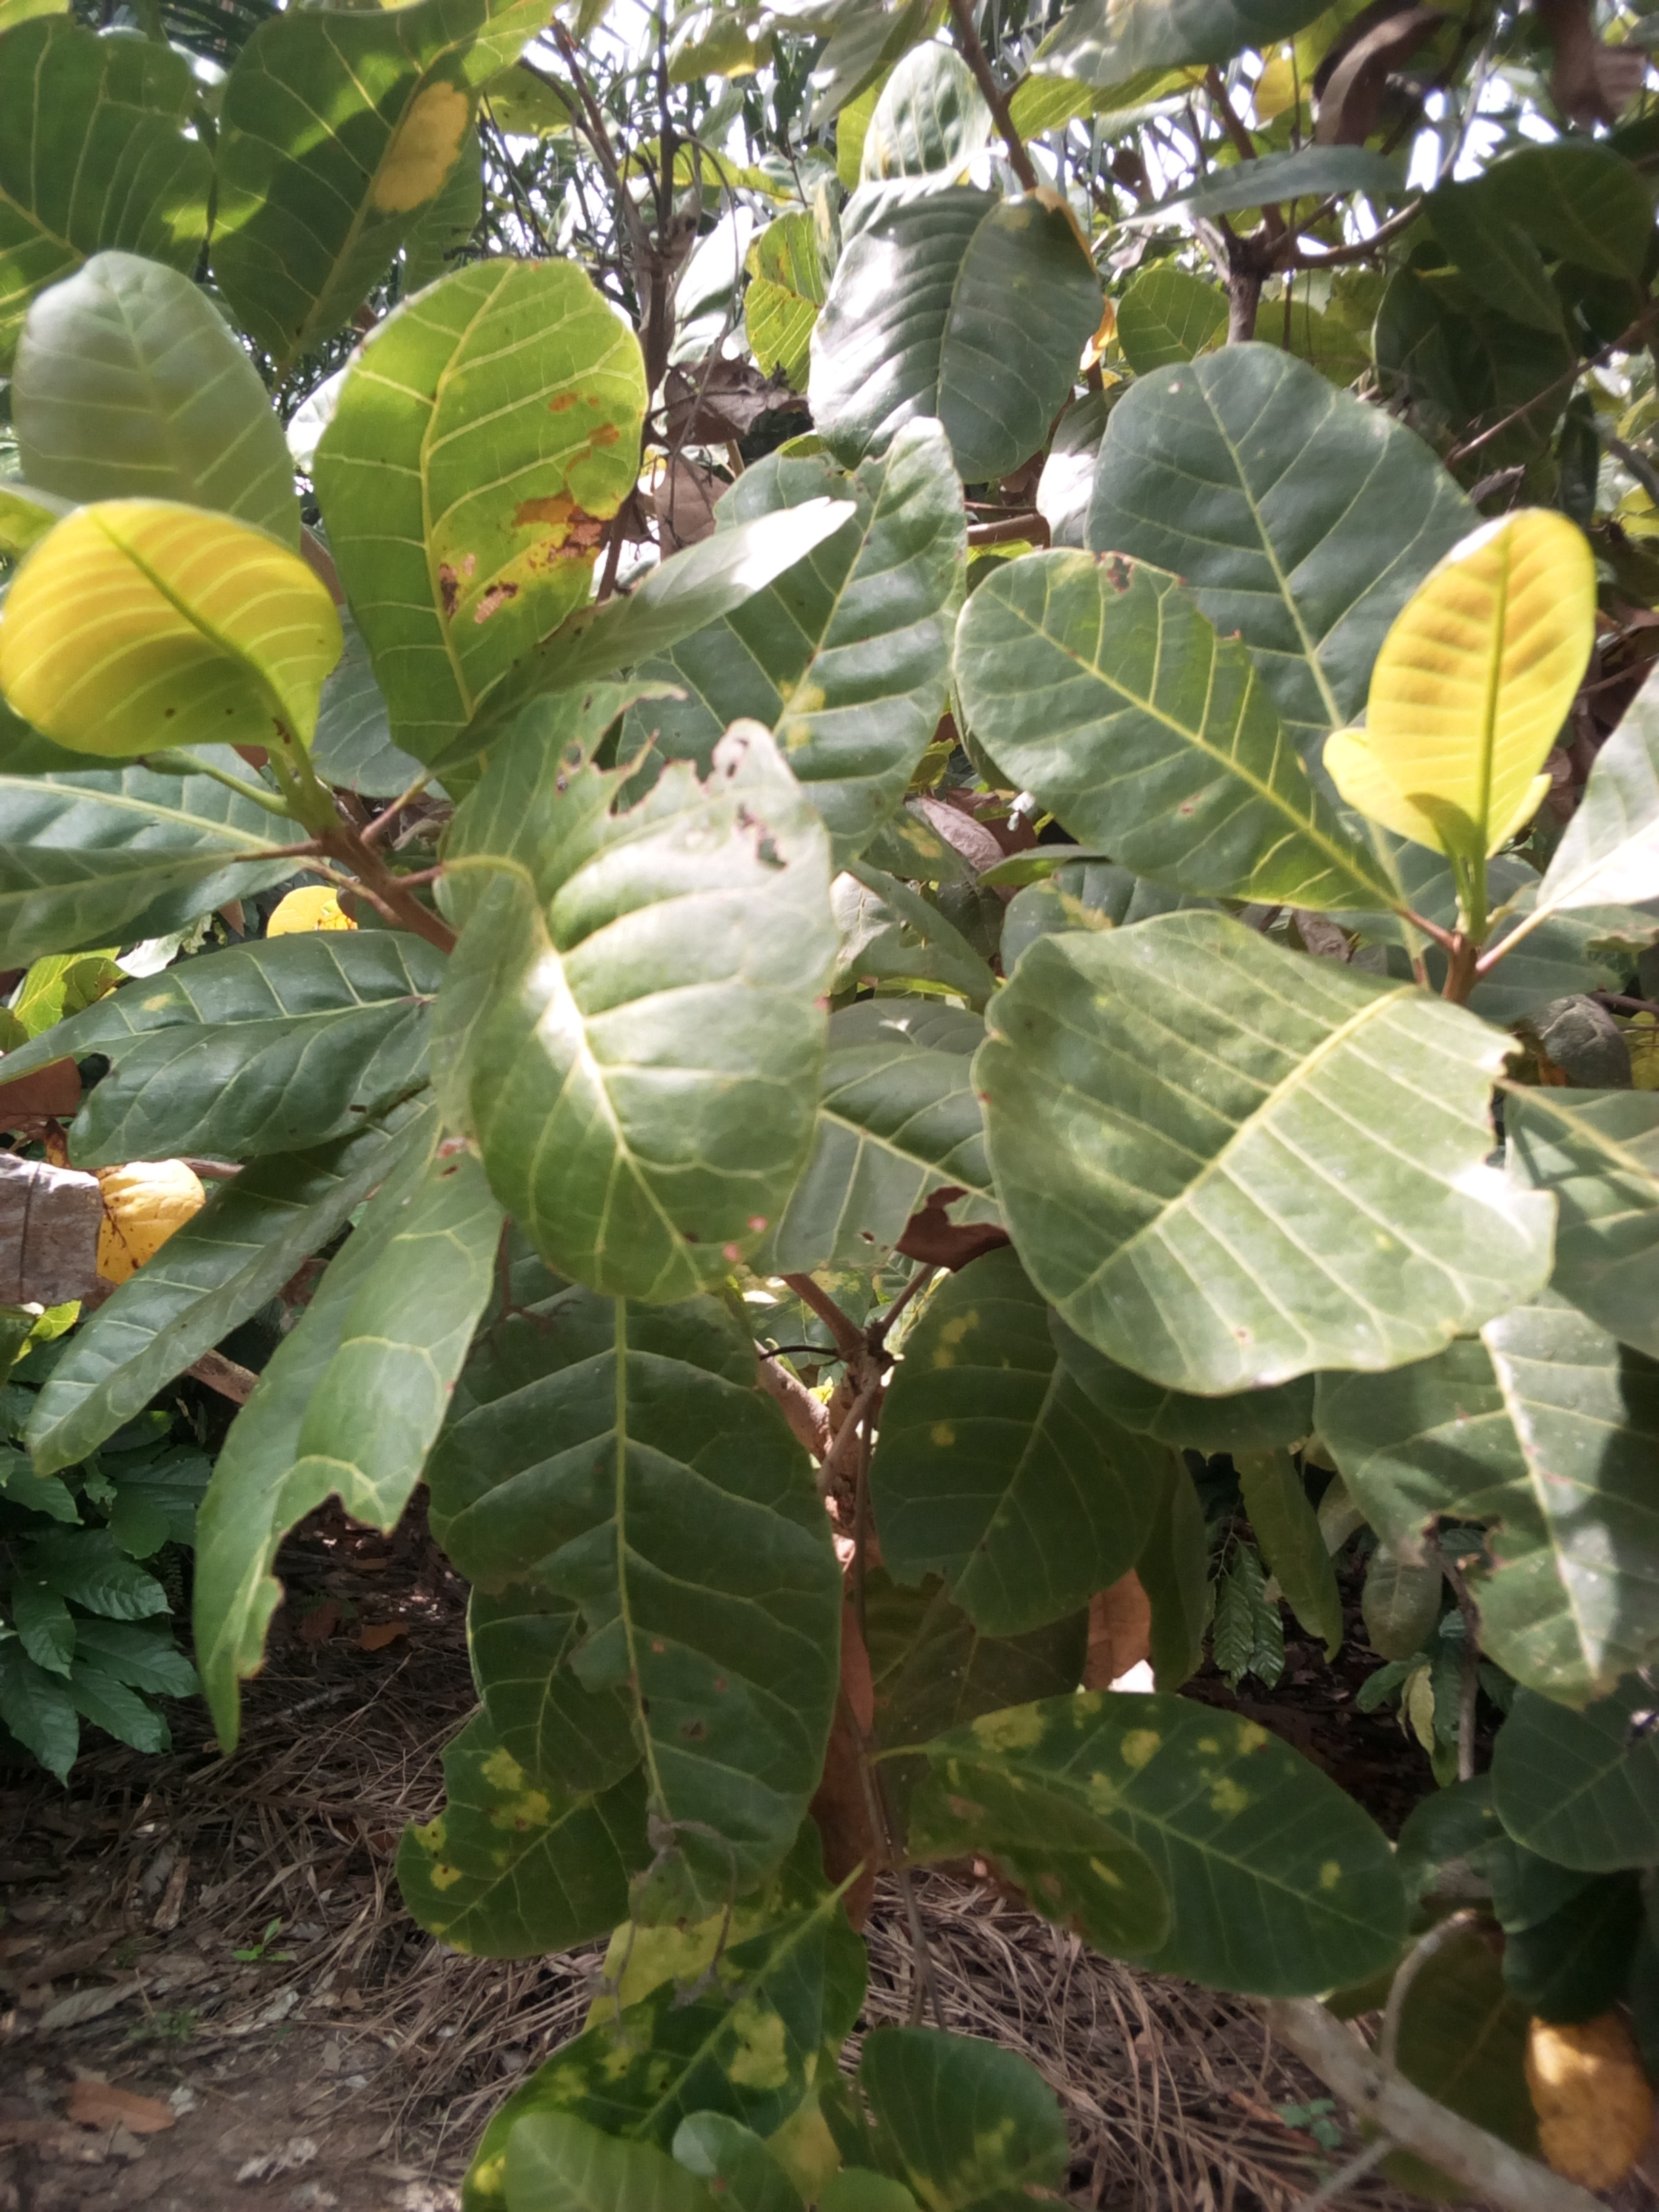Anoplocnemis curvipes: (457, 1439, 833, 1862), (484, 658, 816, 1062)
